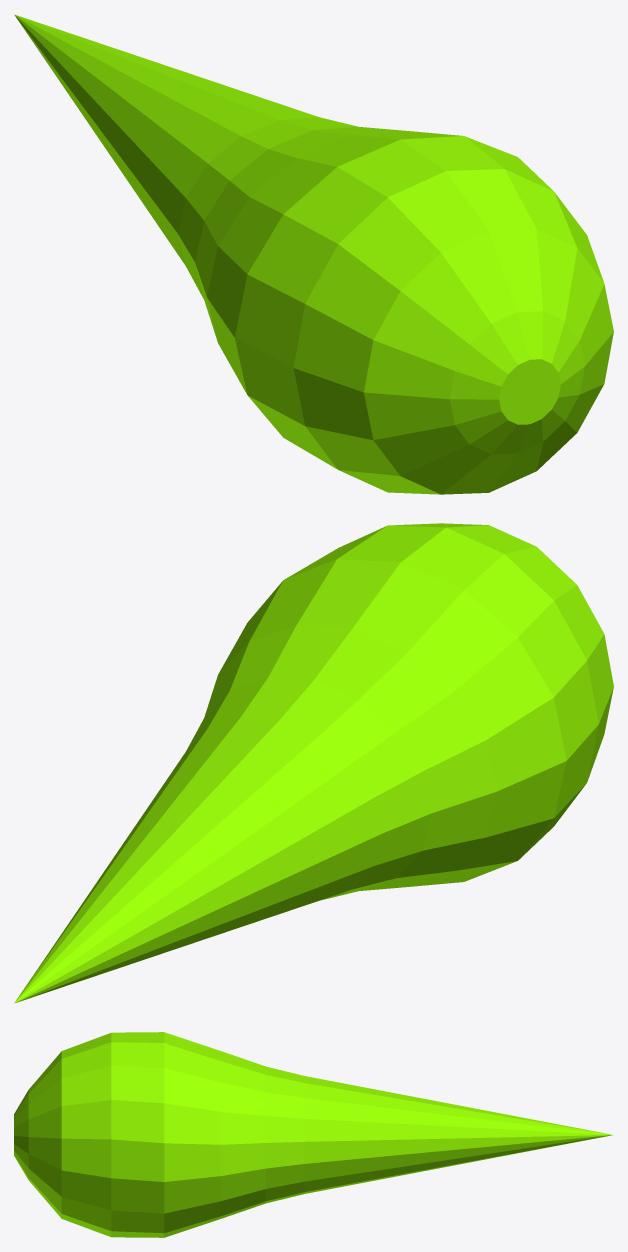
Rendered from venom_projectile.fbx.
The picture shows the model from 3 angles, top to bottom: view 1: azimuth 30°, elevation 25°; view 2: azimuth 150°, elevation 25°; view 3: azimuth 270°, elevation 25°; orthographic projection. The views are drawn at different scales.
Visible parts, largest first — view 1: Circle; view 2: Circle; view 3: Circle.
Part boxes in pixels (bbox=[...]): Circle: bbox=[14, 14, 613, 494]; Circle: bbox=[14, 523, 613, 1003]; Circle: bbox=[14, 1032, 612, 1237].
Bounding box in the file's own units: 63.61 × 58.52 × 171.
Materials: 1 (1 with a texture image).
